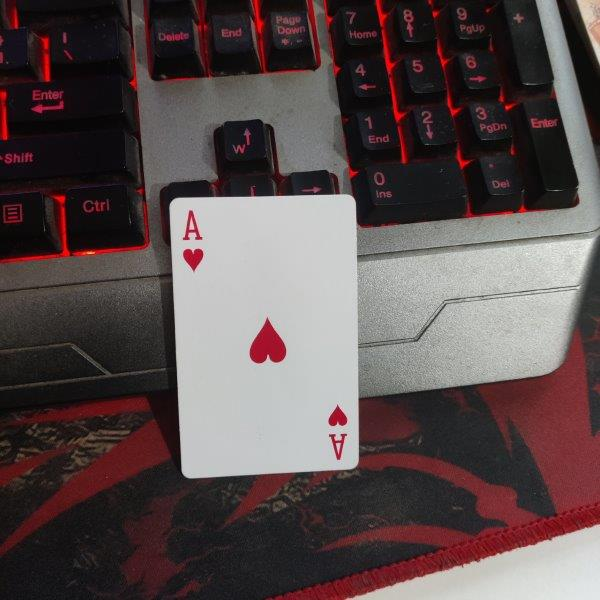Ace of Hearts: (167, 194, 361, 480)
